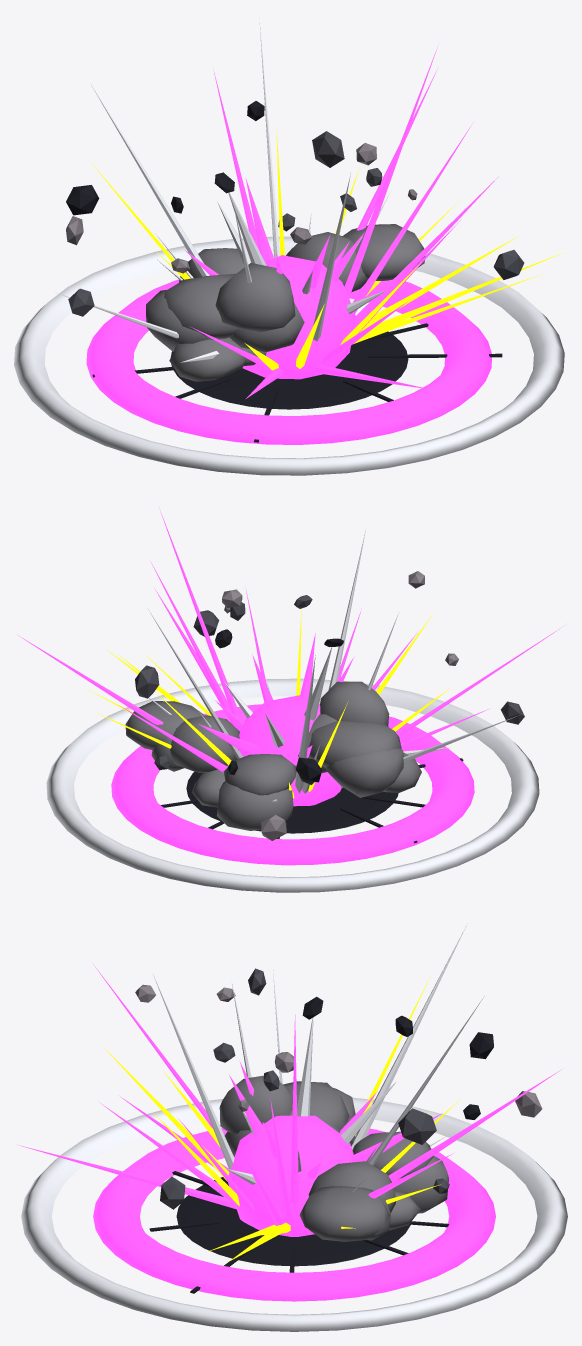
The model's file is GravitySniper_Impact.fbx.
3 renders of one model, top to bottom at view 1: azimuth 30°, elevation 25°; view 2: azimuth 150°, elevation 25°; view 3: azimuth 270°, elevation 25°, orthographic. The views are drawn at different scales.
Visible parts, largest first — view 1: Imp_Onda_std, Imp_Humo_std, Imp_Chispas_std, Imp_Flash_std, Imp_Crater_std, Imp_Escombros_std; view 2: Imp_Onda_std, Imp_Humo_std, Imp_Chispas_std, Imp_Flash_std, Imp_Escombros_std, Imp_Crater_std; view 3: Imp_Onda_std, Imp_Humo_std, Imp_Chispas_std, Imp_Flash_std, Imp_Crater_std, Imp_Escombros_std.
Boxes of the visible parts, x1,y1,x2,y2 form: Imp_Onda_std: [14, 236, 564, 475]; Imp_Humo_std: [146, 224, 424, 381]; Imp_Chispas_std: [57, 18, 564, 398]; Imp_Flash_std: [181, 178, 386, 379]; Imp_Crater_std: [92, 323, 502, 442]; Imp_Escombros_std: [66, 101, 524, 316]; Imp_Onda_std: [46, 678, 539, 892]; Imp_Humo_std: [125, 681, 421, 830]; Imp_Chispas_std: [18, 508, 561, 801]; Imp_Flash_std: [198, 633, 450, 806]; Imp_Escombros_std: [135, 571, 524, 840]; Imp_Crater_std: [161, 758, 463, 843]; Imp_Onda_std: [21, 1097, 567, 1331]; Imp_Humo_std: [219, 1075, 448, 1241]; Imp_Chispas_std: [18, 923, 561, 1261]; Imp_Flash_std: [227, 1017, 442, 1236]; Imp_Crater_std: [149, 1171, 449, 1293]; Imp_Escombros_std: [135, 968, 542, 1209].
Bounding box in the file's own units: 34.85 × 20.73 × 34.35.
